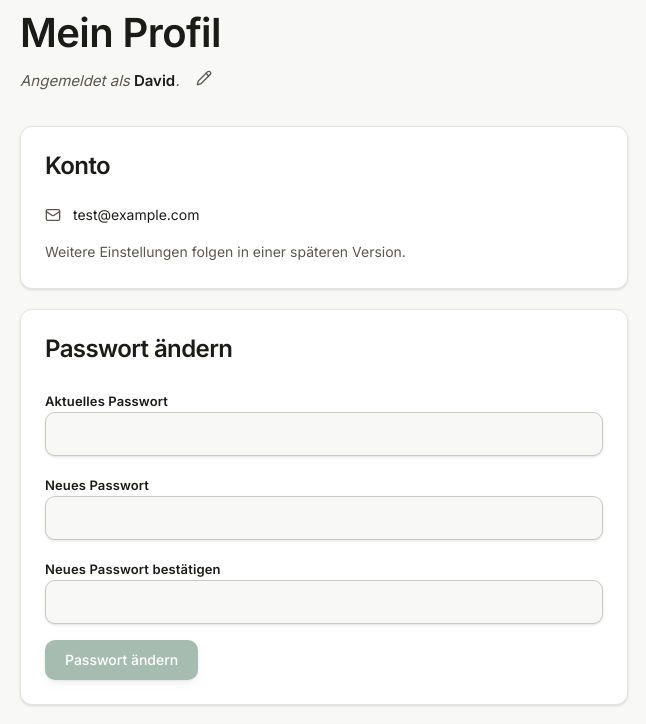
Test: <ProfilePage /> › REL-5d displayname inline field-focus › focuses the displayName input + shows the translated error under it on fieldName=displayName
Click the button named "anzeigenamen bearbeiten". click: (204, 78)
box: [188, 62, 220, 94]
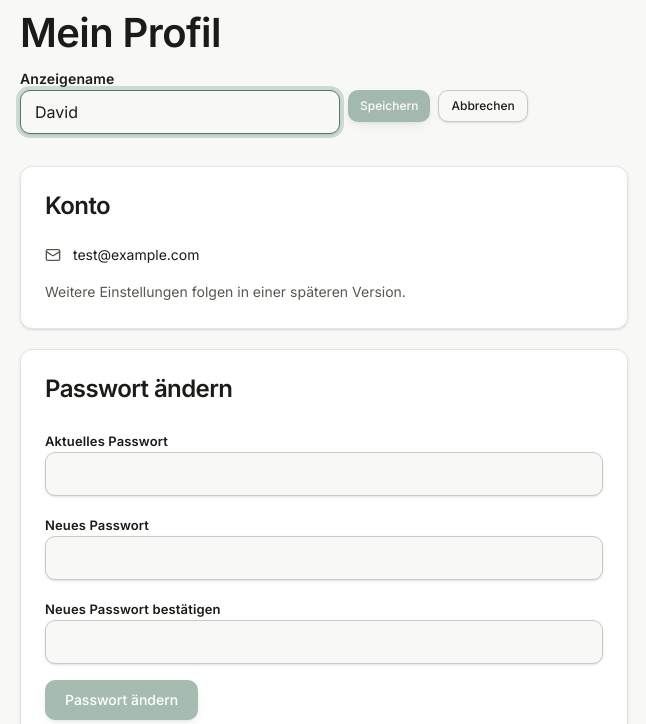
Replace the text in the field labelled "Anzeigename" with "Gueltig". click: (180, 112)
box: [20, 90, 340, 134]
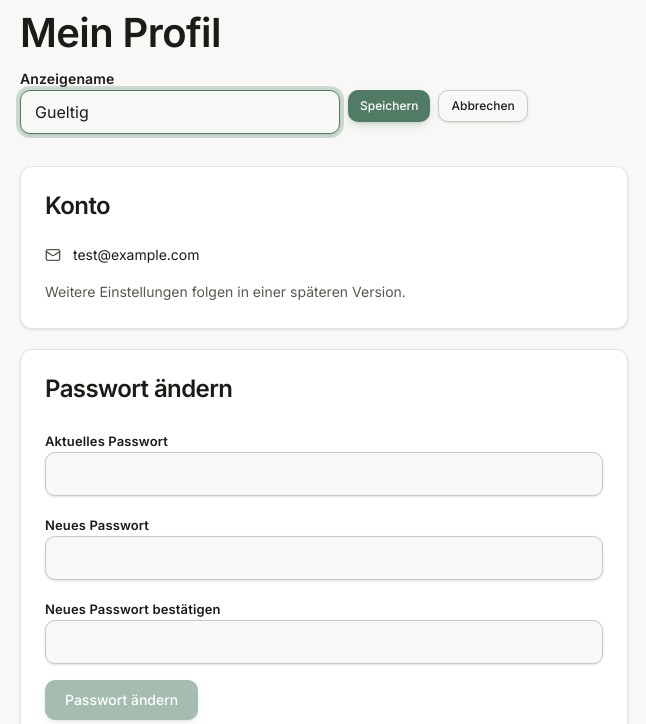
Click the button "Speichern". click: (389, 106)
box: [348, 90, 430, 122]
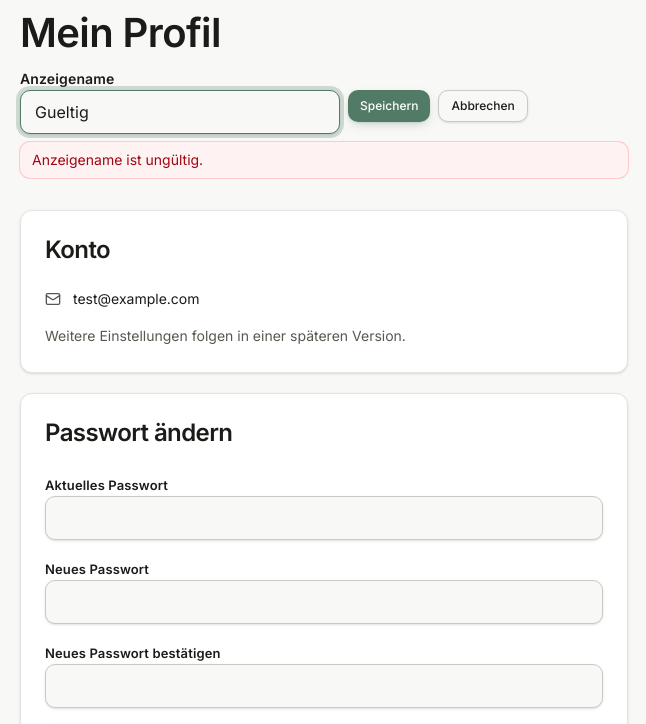
Result: the text "Anzeigename ist ungültig." is shown at [20, 142, 628, 178]
